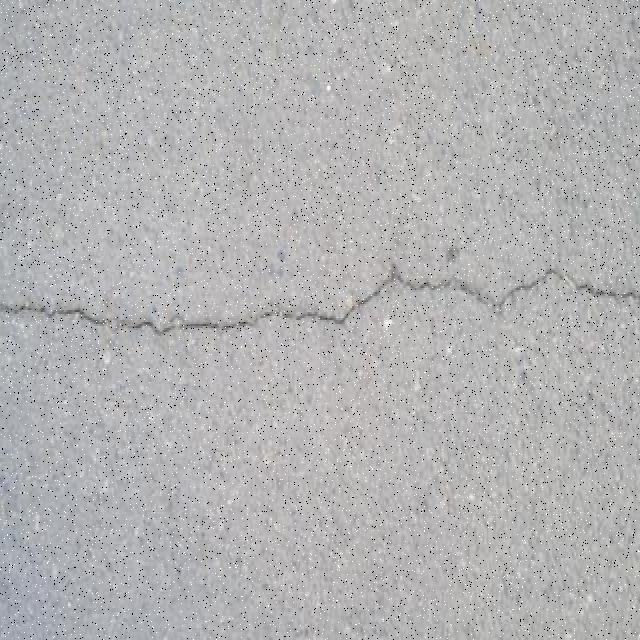minor crack: (375, 261, 631, 311), (169, 302, 358, 330), (12, 299, 180, 326), (339, 266, 399, 311), (574, 278, 634, 299), (450, 276, 502, 300), (544, 268, 580, 291), (505, 276, 542, 293), (418, 274, 455, 291), (88, 314, 117, 333), (291, 309, 334, 321), (326, 312, 353, 326)
moderate crack: (584, 366, 633, 431)
severe crack: (4, 22, 640, 346), (153, 319, 211, 335), (10, 302, 37, 313)
